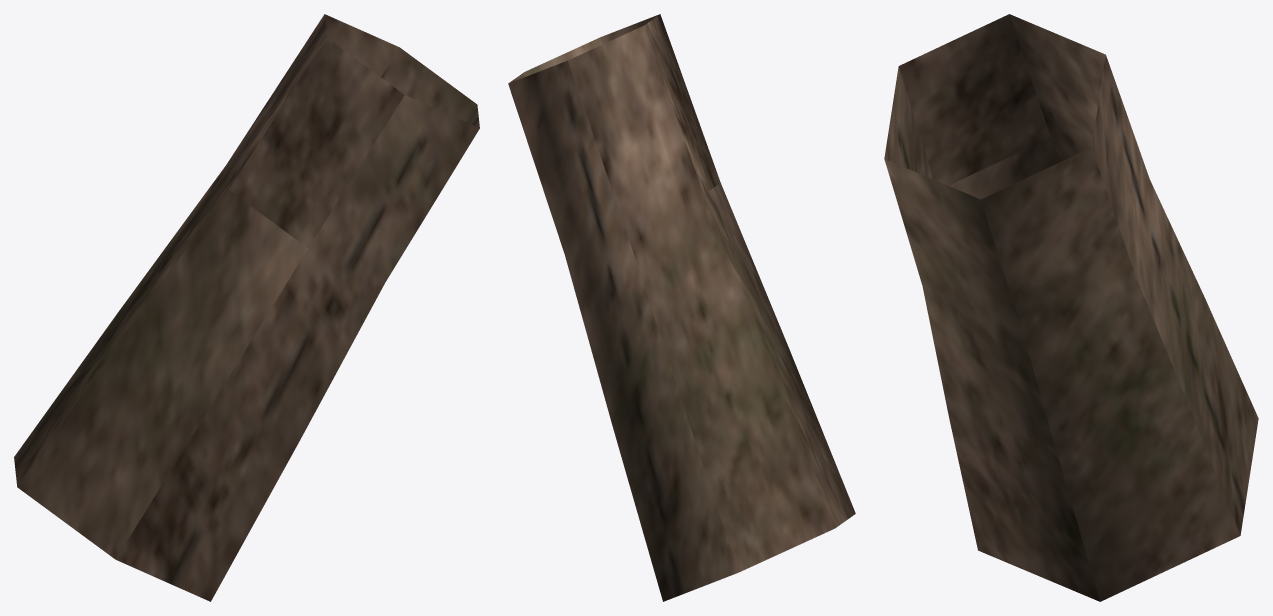
Rendered from leg_left.gltf.
3 renders of one model, left to right at view 1: azimuth 30°, elevation 25°; view 2: azimuth 150°, elevation 25°; view 3: azimuth 270°, elevation 25°, orthographic. The views are drawn at different scales.
Visible parts, largest first — view 1: doll_Hanging Doll_0.005; view 2: doll_Hanging Doll_0.005; view 3: doll_Hanging Doll_0.005.
Part boxes in pixels (x1,y1,x2,y2): doll_Hanging Doll_0.005: (14,14,479,601); doll_Hanging Doll_0.005: (508,14,855,601); doll_Hanging Doll_0.005: (884,14,1258,601).
Bounding box in the file's own units: 64.96 × 85.6 × 45.81.
Materials: 1 (1 with a texture image).
